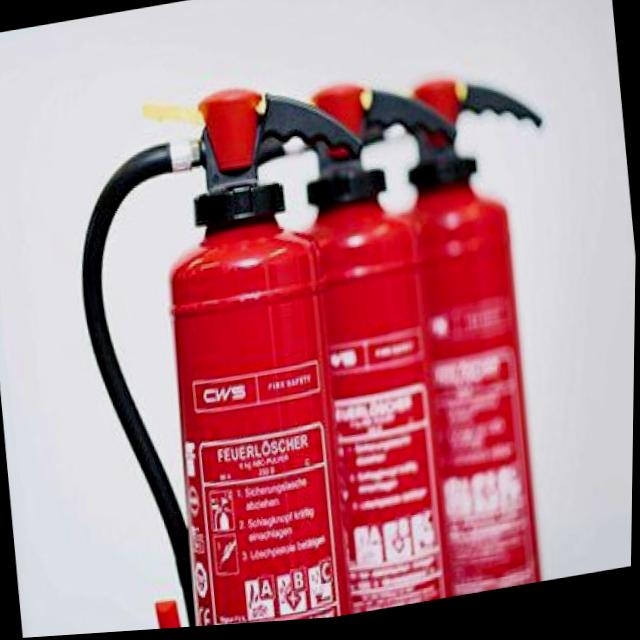FireExtinguisher: (55, 64, 415, 637), (194, 62, 515, 629), (317, 52, 595, 616)
